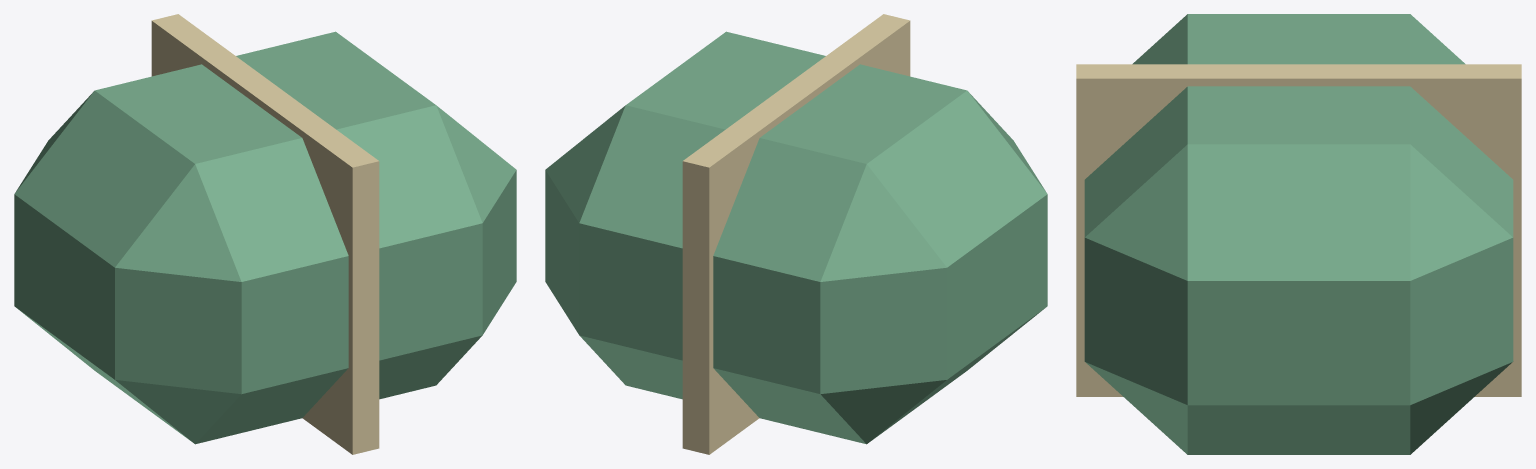
The model's file is feudal-japan-castle-town-travel-bundle-ba49b89c__26482.glb.
3 renders of one model, left to right at view 1: azimuth 30°, elevation 25°; view 2: azimuth 150°, elevation 25°; view 3: azimuth 270°, elevation 25°, orthographic. The views are drawn at different scales.
Parts seen in each view (by area): view 1: travel-bundle; view 2: travel-bundle; view 3: travel-bundle.
Part boxes in pixels (x1,y1,x2,y2): travel-bundle: [14, 14, 516, 454]; travel-bundle: [545, 14, 1047, 454]; travel-bundle: [1076, 14, 1521, 454].
Size of the model in its own units: 0.6 by 0.41 by 0.52.
